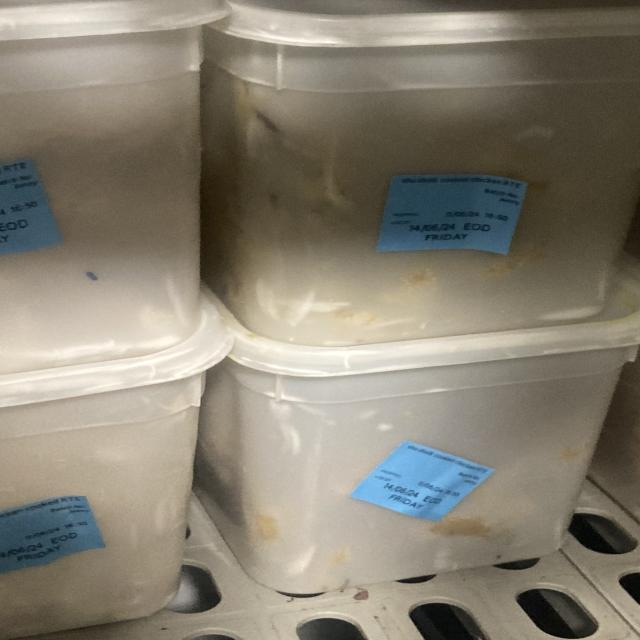product-labels: (351, 430, 495, 535), (379, 173, 526, 255), (0, 489, 109, 575), (0, 154, 71, 258)
